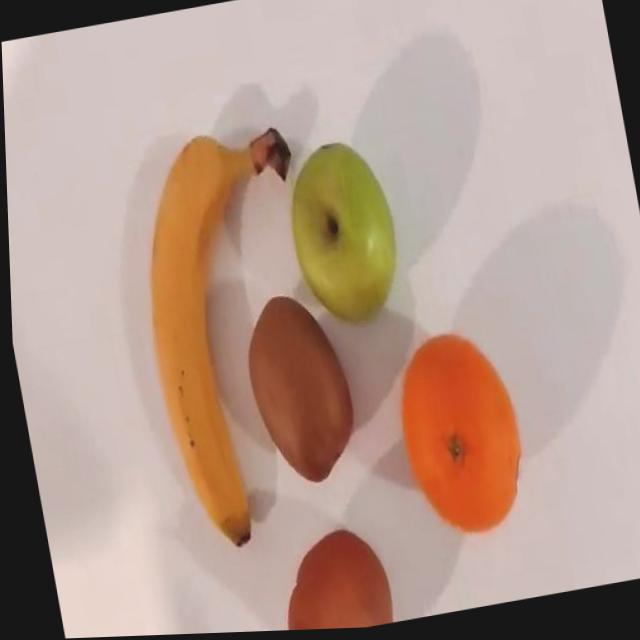Apple: (276, 135, 408, 335)
Banana: (117, 119, 356, 558)
Orange: (383, 326, 532, 546)
